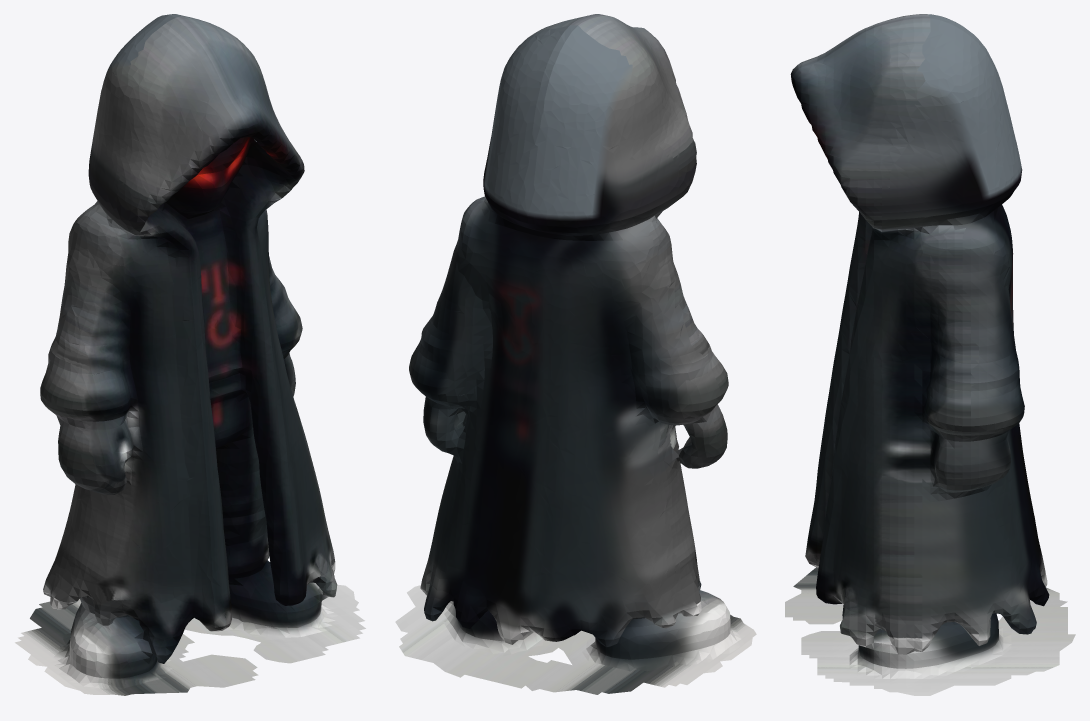
File: hacker.glb
The picture shows the model from 3 angles, left to right: view 1: azimuth 30°, elevation 25°; view 2: azimuth 150°, elevation 25°; view 3: azimuth 270°, elevation 25°; orthographic projection.
Visible parts, largest first — view 1: geometry_0; view 2: geometry_0; view 3: geometry_0.
Part boxes in pixels (x1,y1,x2,y2): geometry_0: (15, 14, 365, 695); geometry_0: (395, 14, 756, 694); geometry_0: (785, 14, 1075, 695).
Size of the model in its own units: 0.9225 by 1.75 by 0.7548.
1 material, 1 textured.
